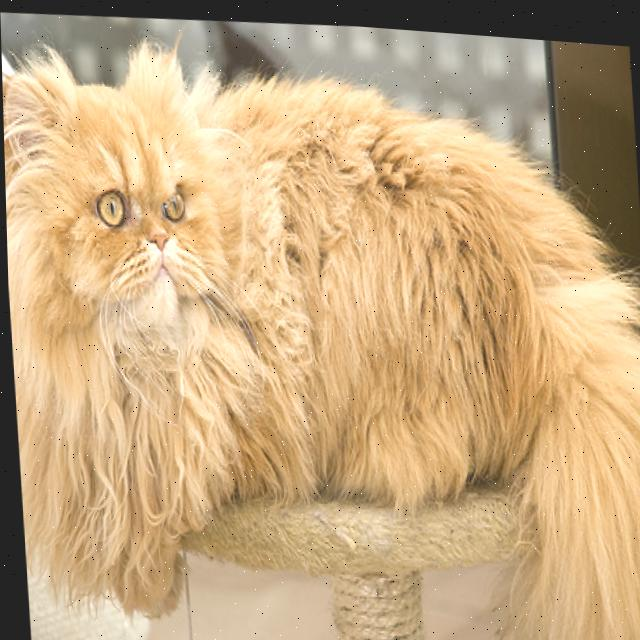Persian: (0, 8, 640, 640)
